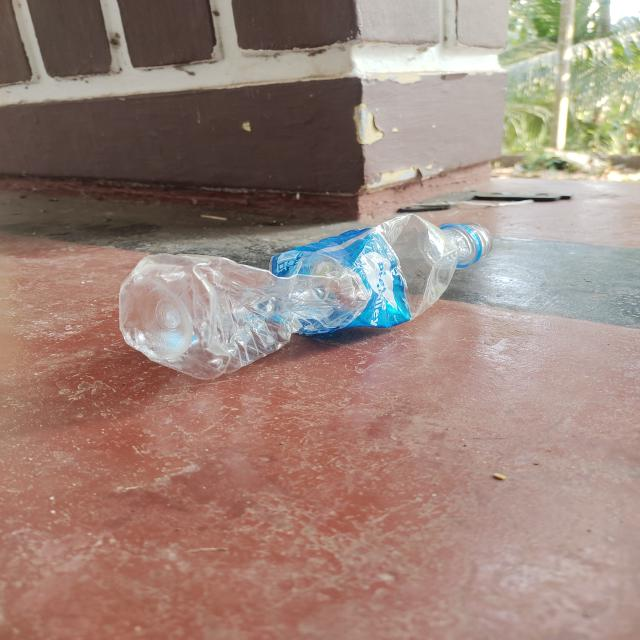plastic: (117, 210, 496, 383)
